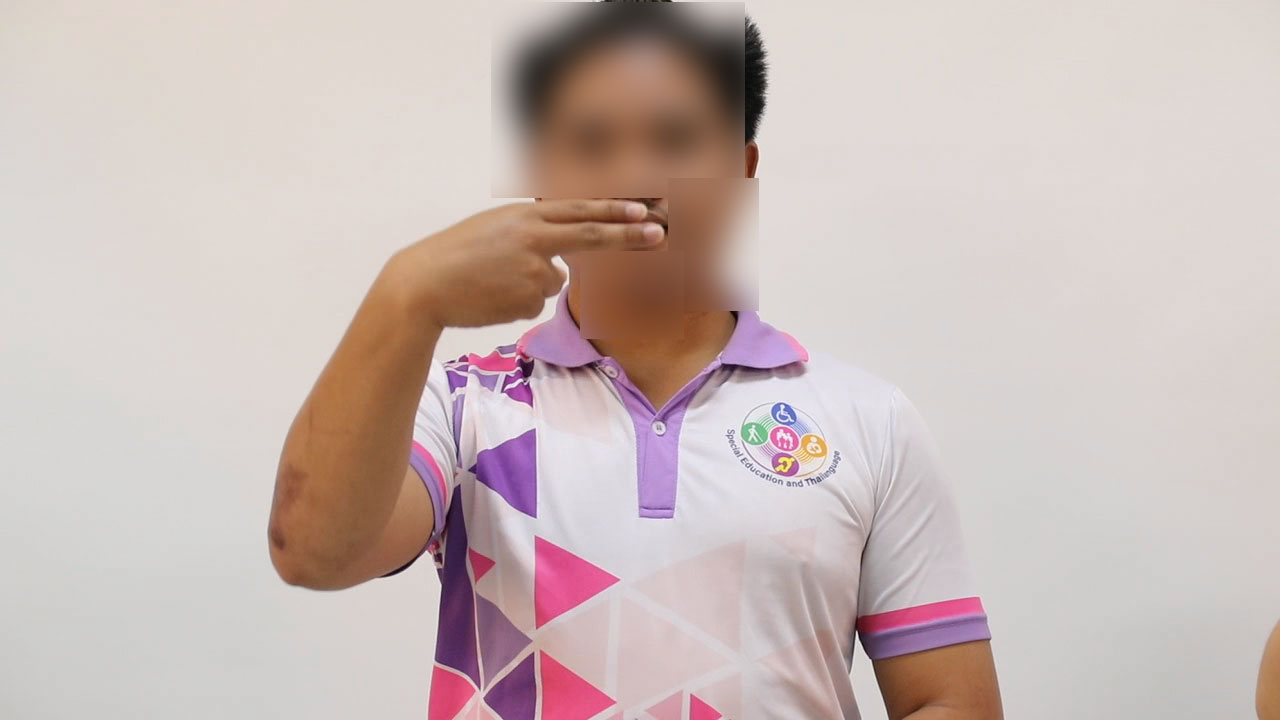hor: (365, 184, 674, 339)
